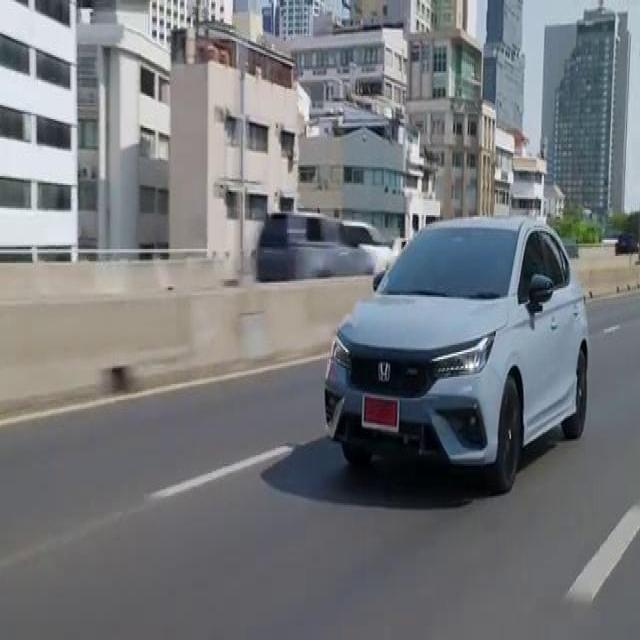Hatchback: (324, 217, 588, 492)
